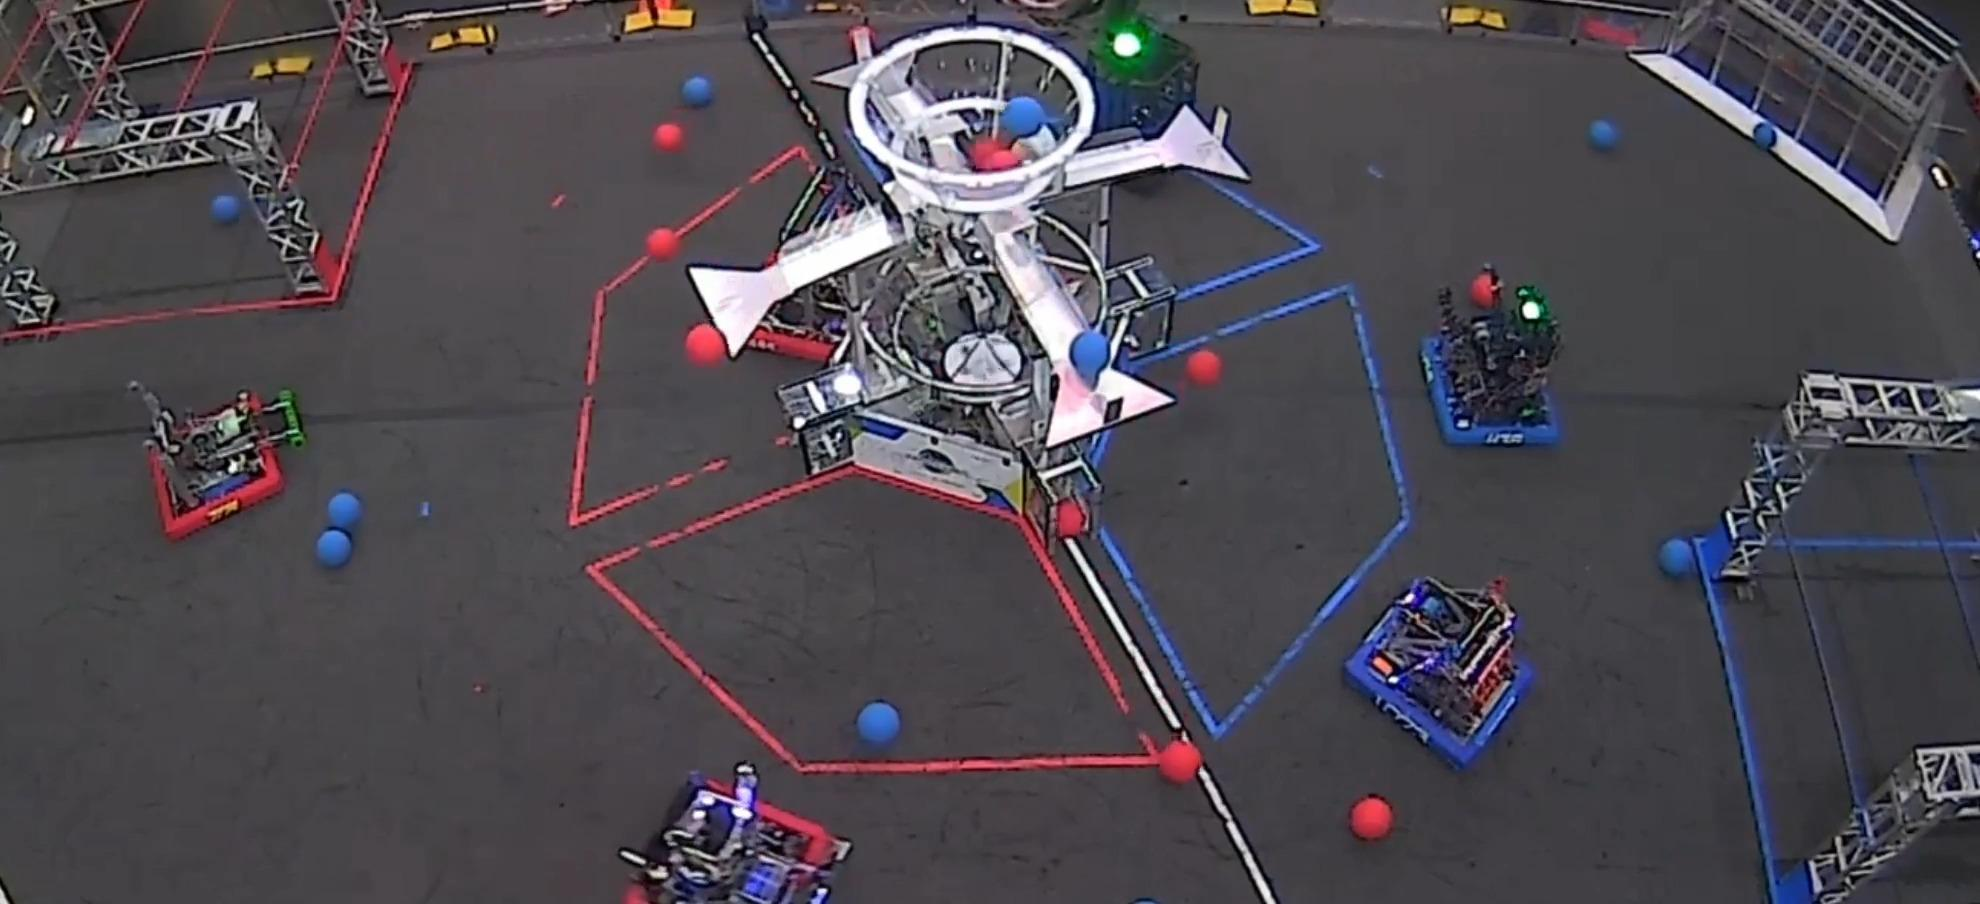Robots: (1347, 577, 1530, 766), (619, 764, 850, 903), (129, 381, 306, 538), (1424, 266, 1560, 444), (764, 160, 878, 366), (1082, 10, 1212, 188)
